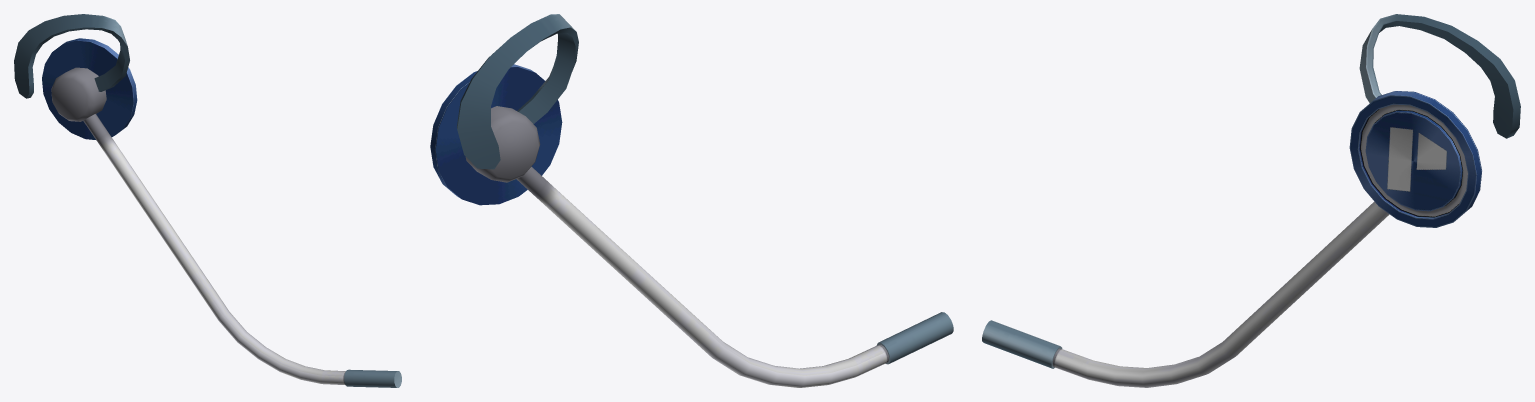
The model's file is EntrainingIntercomLeo.fbx.
The picture shows the model from 3 angles, left to right: view 1: azimuth 90°, elevation 25°; view 2: azimuth 150°, elevation 25°; view 3: azimuth 270°, elevation 25°; orthographic projection. The views are drawn at different scales.
Parts seen in each view (by area): view 1: EntrainingIntercomLeo; view 2: EntrainingIntercomLeo; view 3: EntrainingIntercomLeo.
Part boxes in pixels (x1,y1,x2,y2): EntrainingIntercomLeo: (14,14,401,387); EntrainingIntercomLeo: (430,14,953,387); EntrainingIntercomLeo: (982,14,1520,387).
Size of the model in its own units: 0.049 by 0.0729 by 0.0813.
1 material, 1 textured.
